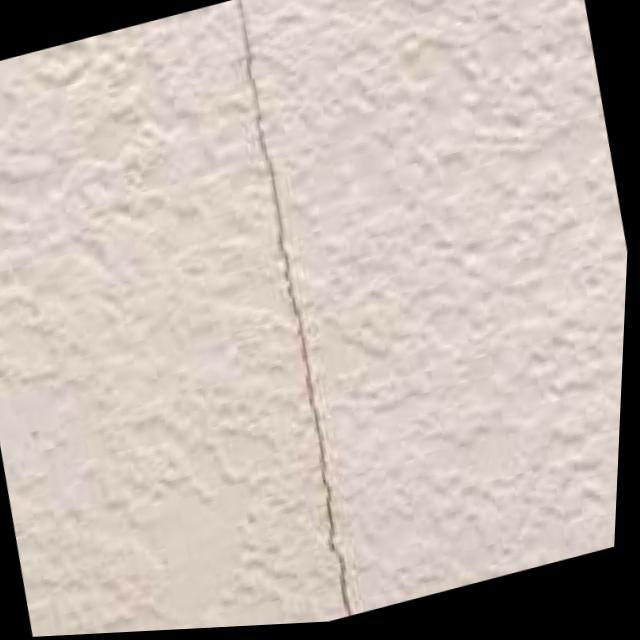Crack: (193, 0, 397, 630)
